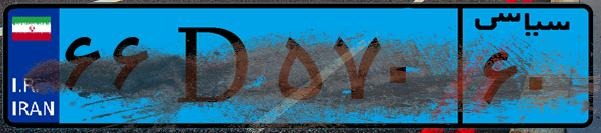0: (385, 28, 445, 110), (525, 38, 570, 115)
5: (270, 28, 330, 110)
6: (57, 26, 110, 100), (475, 38, 525, 113), (110, 28, 158, 98)
7: (330, 28, 385, 110)
D: (158, 12, 270, 120)
